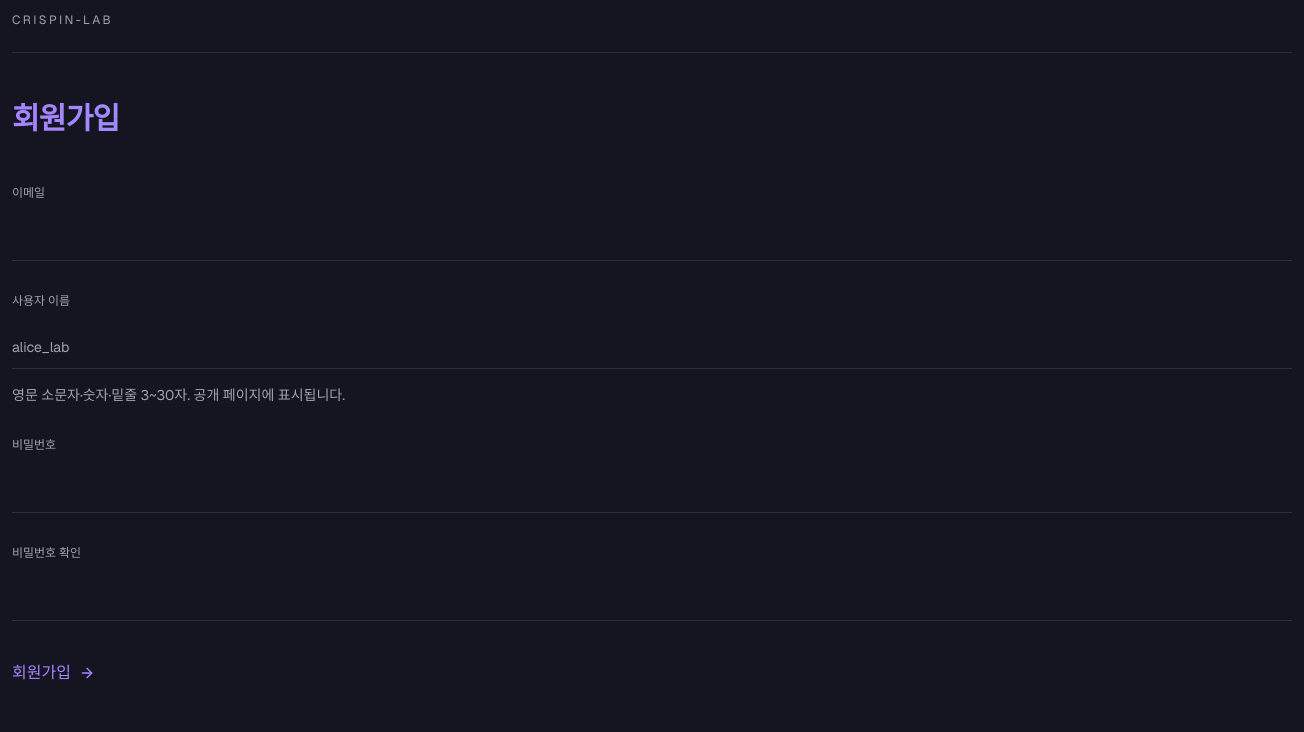
Test: SignupForm › 사용자 이름에 대문자가 들어가면 FormMessage 노출 + submit 막힘
This screenshot has width=1304, height=732.
Type "a@b.com" into the field labelled "이메일".
click(652, 239); type("a@b.com")  # box [12,217,1292,261]
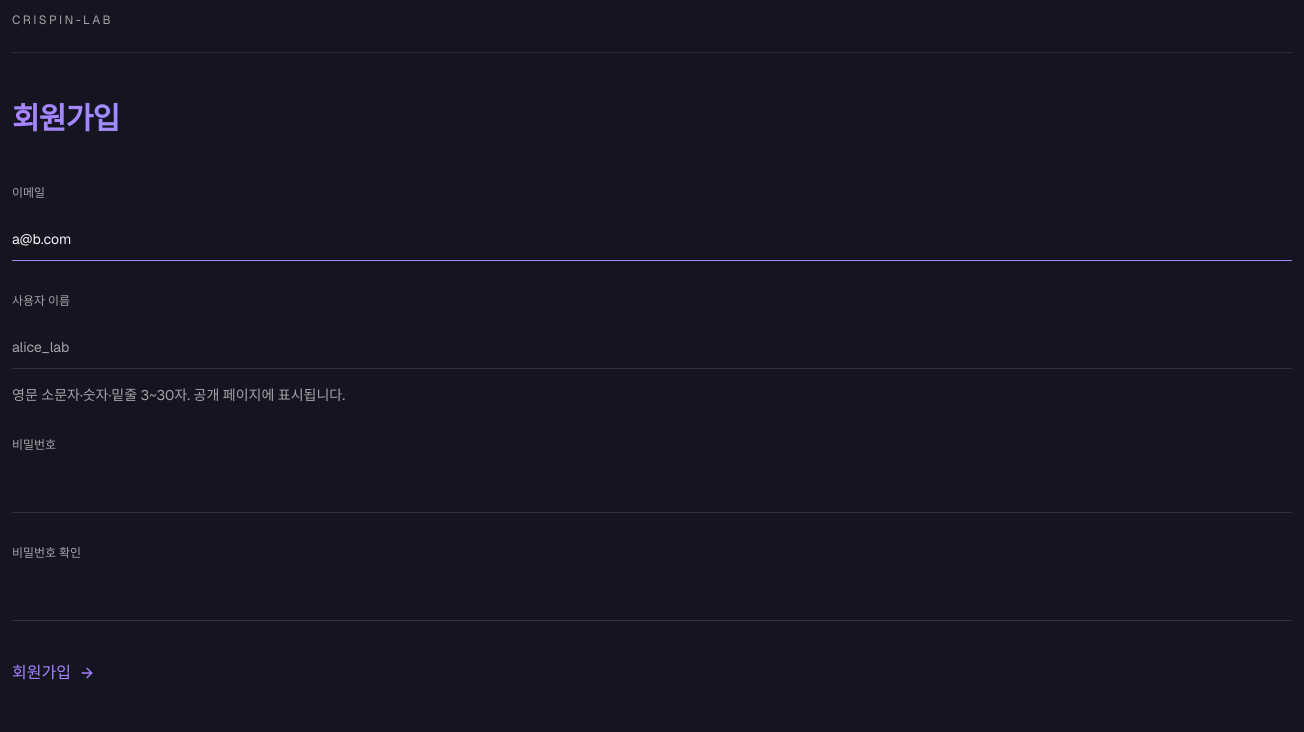
Type "AliceX" into the field labelled "사용자 이름".
click(652, 347); type("AliceX")  # box [12,325,1292,369]
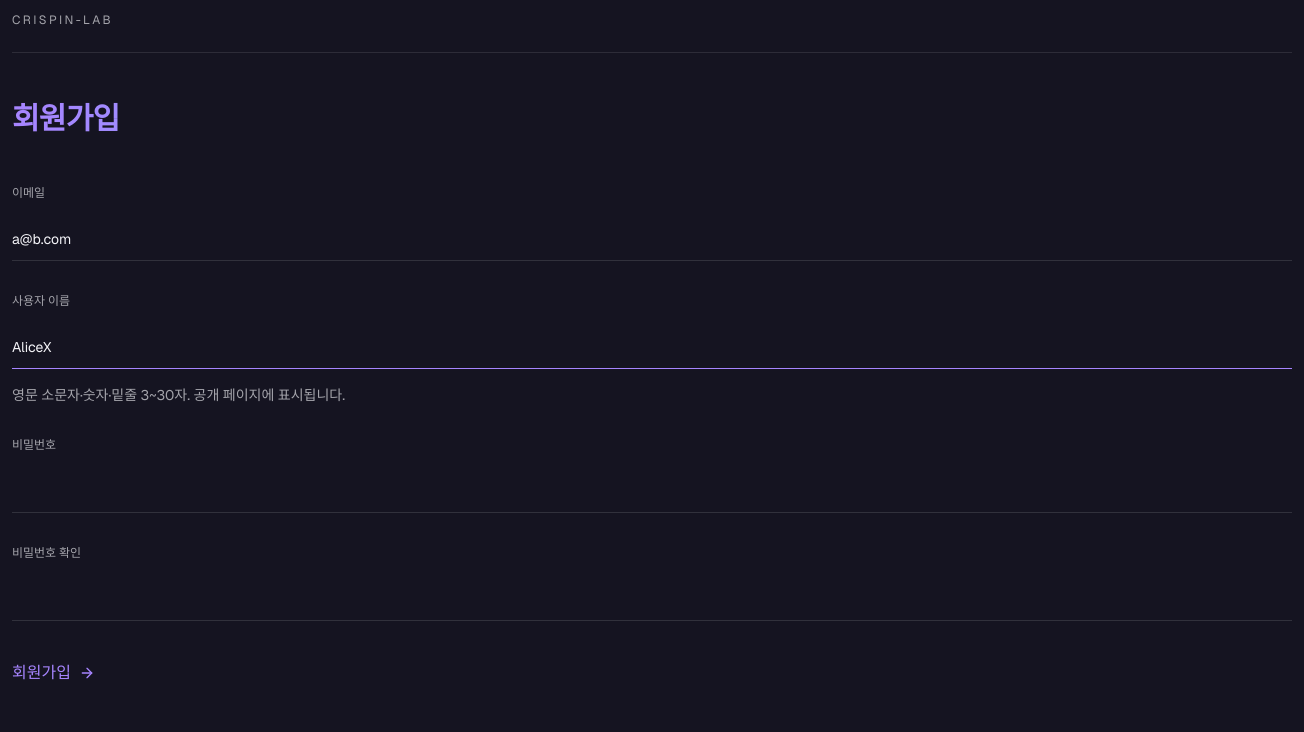
Type "password1" into the password field labelled "비밀번호".
click(652, 491); type("password1")  # box [12,469,1292,513]
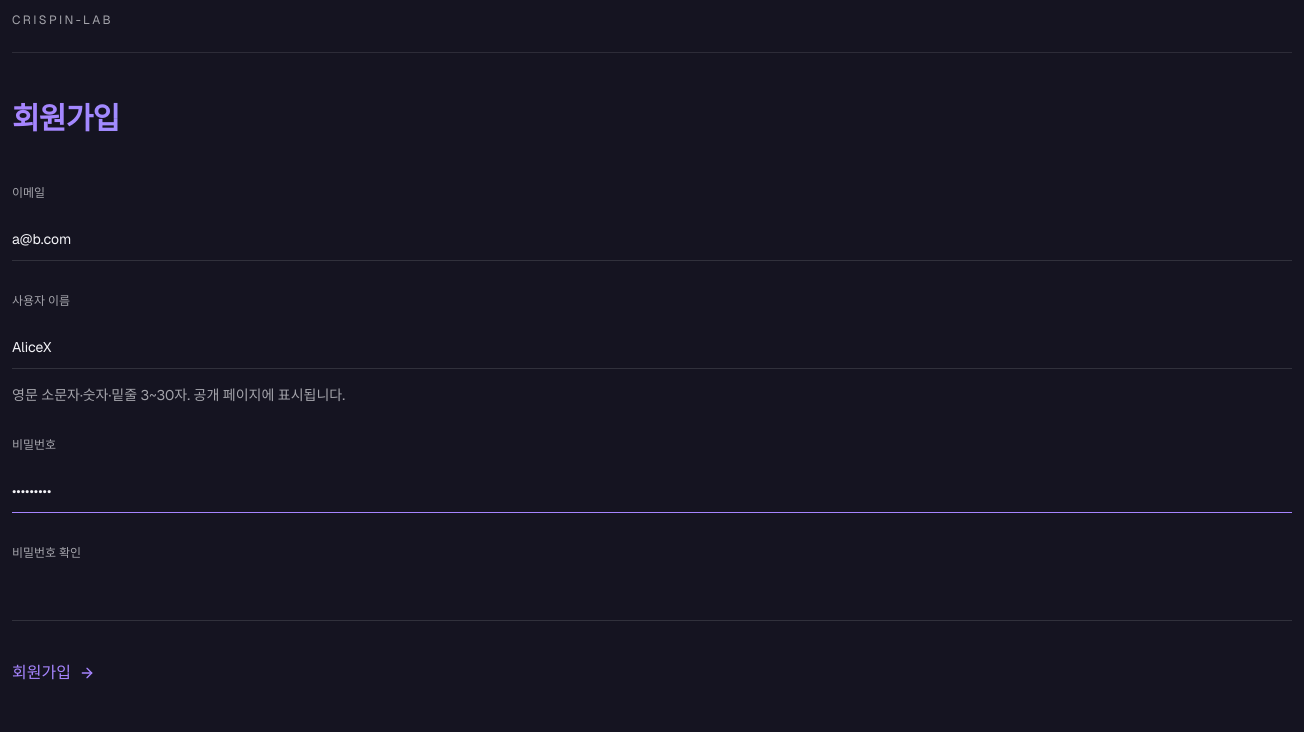
Click the button "회원가입".
click(53, 673)  # box [12,661,95,685]
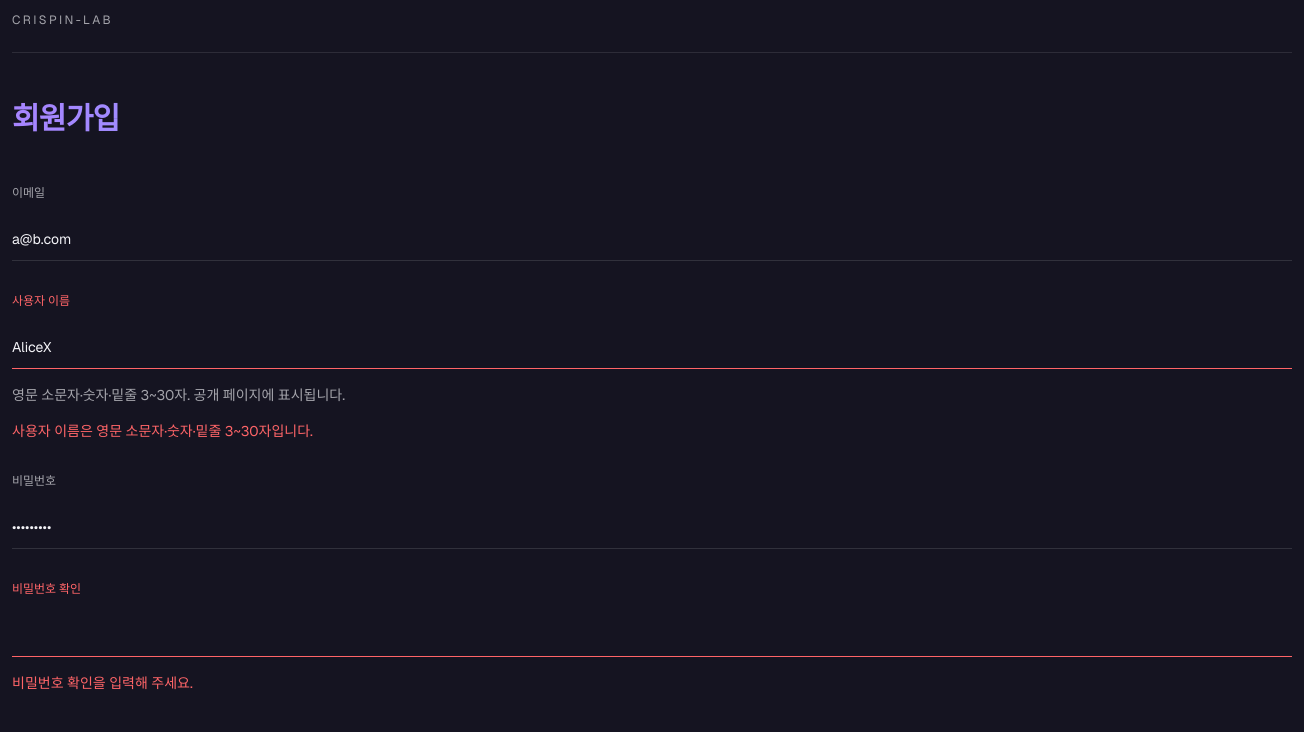
Check: the text "사용자 이름은 영문 소문자·숫자·밑줄 3~30자입니다." is shown, box [12,422,313,440]
